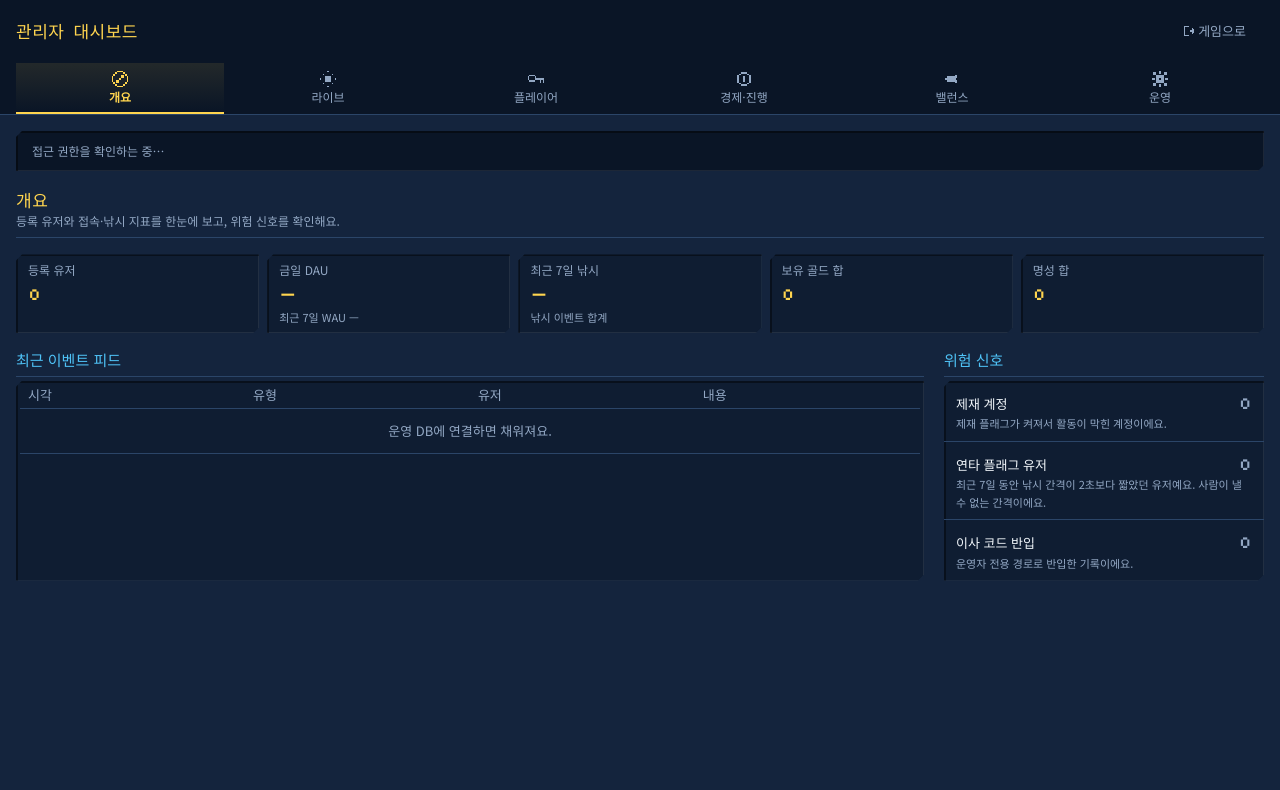
관리자 대시보드 페이지 › 어종 시뮬레이션 탭 — 수역별 표가 확정 데이터로 채워진다
The width and height of the screenshot is (1280, 790).
Expected: the text "관리자 대시보드" is shown, [16,18,138,44]
Click the button "밸런스" at (952, 88), box [848,63,1056,114]
(page scrolled)
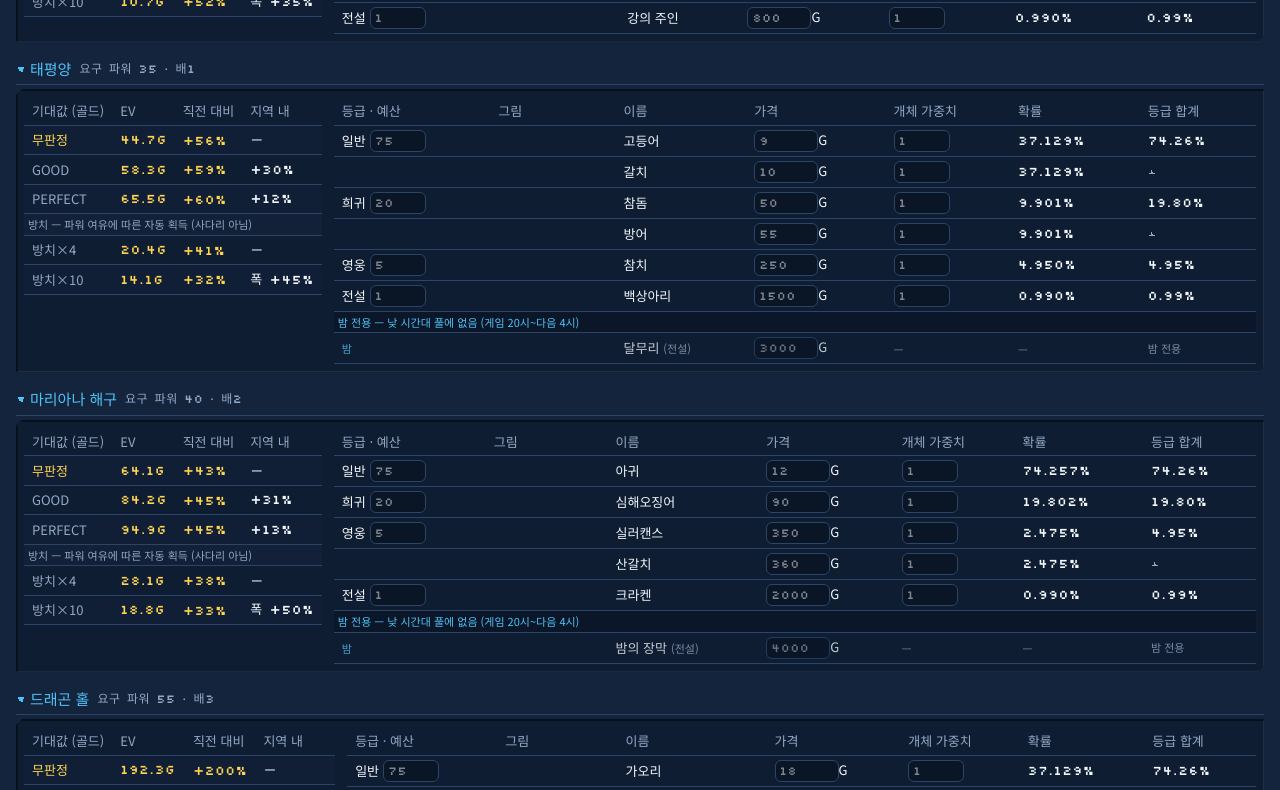
Expected: the text "마리아나 해구" is shown, [30,388,117,410]
Expected: the text "요구 파워 40 · 배2" is shown, [125,391,242,407]
